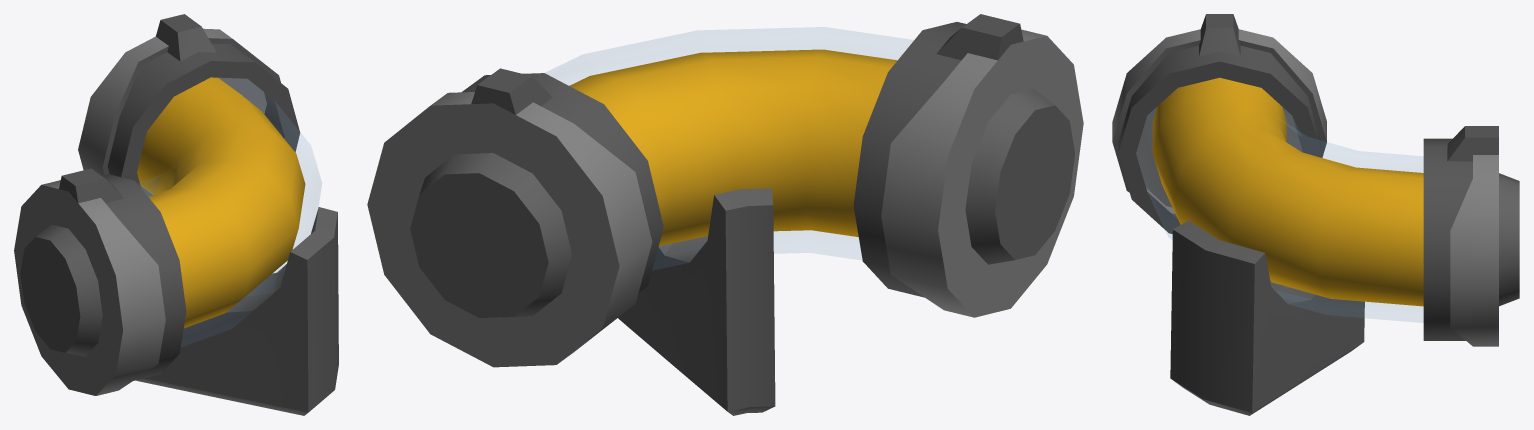
File: Liquid_AnyColor_Pipe_Elbow.fbx
3 renders of one model, left to right at view 1: azimuth 30°, elevation 25°; view 2: azimuth 150°, elevation 25°; view 3: azimuth 270°, elevation 25°, orthographic. The views are drawn at different scales.
Parts seen in each view (by area): view 1: Liquid_AnyColor_Pipe_Elbow; view 2: Liquid_AnyColor_Pipe_Elbow; view 3: Liquid_AnyColor_Pipe_Elbow.
Boxes of the visible parts, x1,y1,x2,y2 form: Liquid_AnyColor_Pipe_Elbow: (14,14,338,415); Liquid_AnyColor_Pipe_Elbow: (367,14,1083,415); Liquid_AnyColor_Pipe_Elbow: (1112,14,1519,415).
Size of the model in its own units: 146 by 107 by 146.
